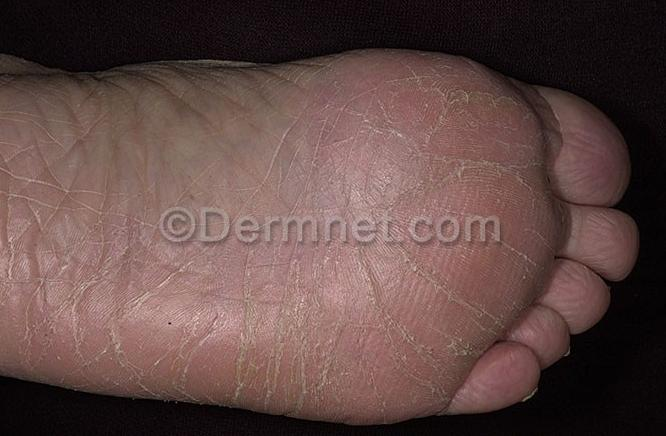liquenificacion 2: (0, 50, 548, 408)
xerosis 3: (0, 62, 543, 417)
